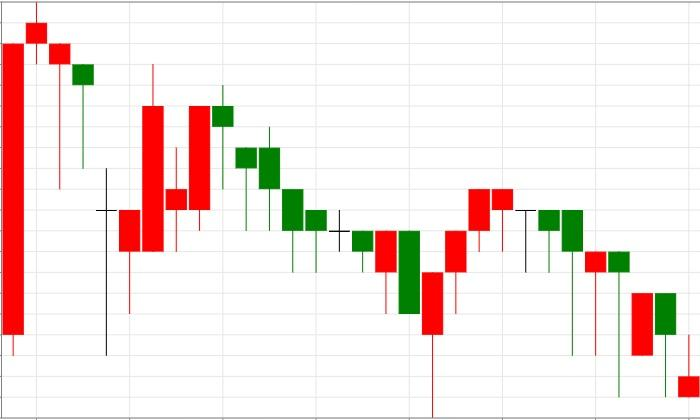three_white_soldiers_rise: (213, 84, 490, 418)
